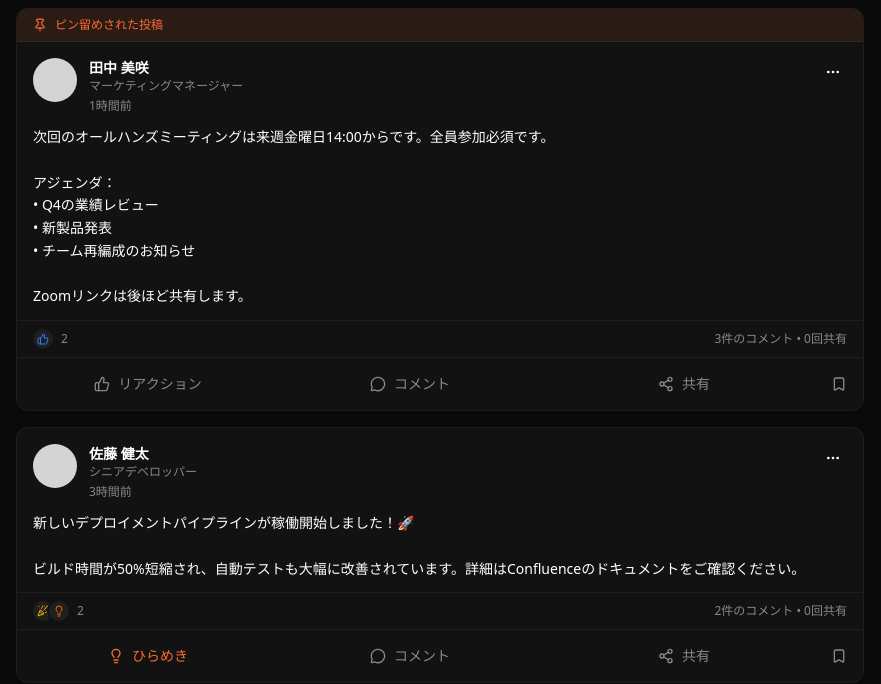
Scenario: CommunityFeed / Interactions › should expand comments when button is clicked
(page scrolled)
Expected: the text "Zoomリンクはいつ頃共有される予定でしょうか？カレンダーに登録しておきたいです。" is not shown
Click the button "コメント" below "1時間前".
click(410, 384)  # box [275,366,545,402]
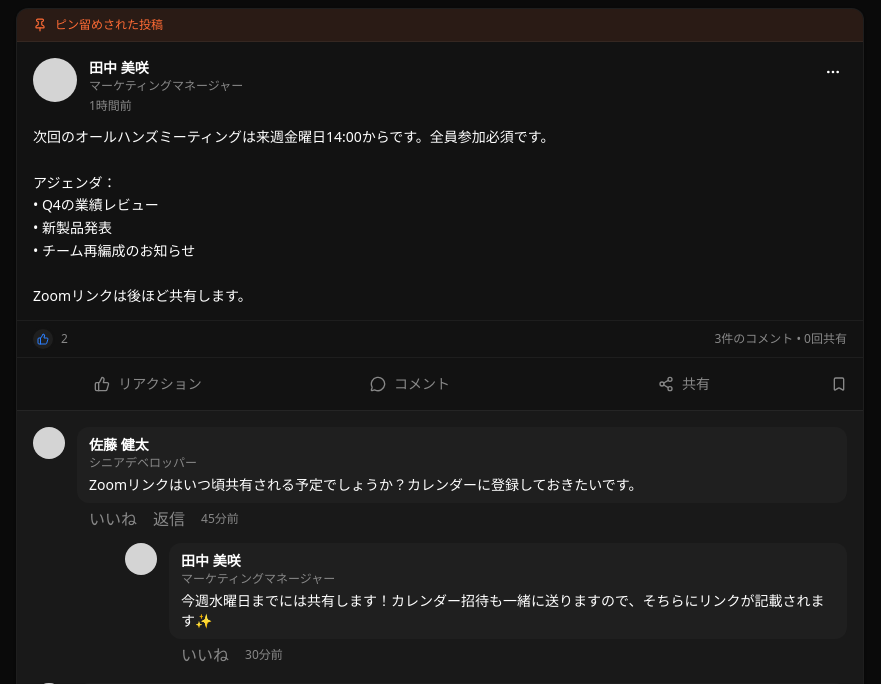
Expected: the text "Zoomリンクはいつ頃共有される予定でしょうか？カレンダーに登録しておきたいです。" is shown, [89,475,642,494]
